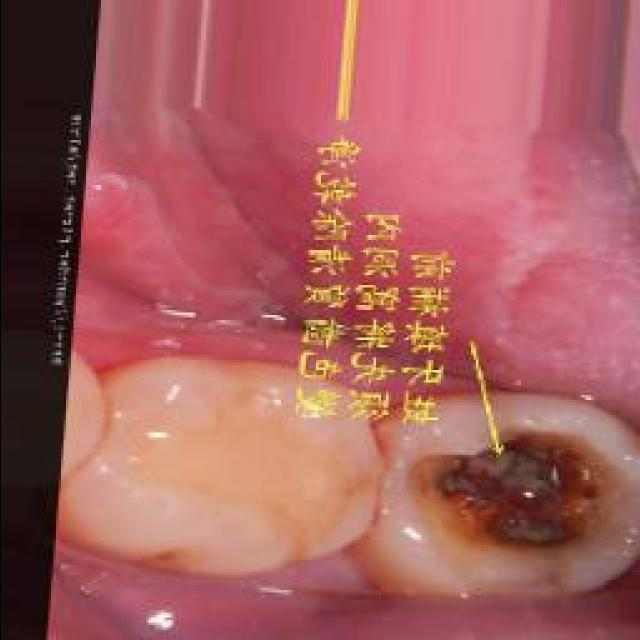caries: (443, 422, 585, 550)
